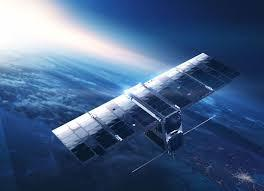antenna: (128, 151, 167, 177), (180, 113, 219, 137)
body: (129, 82, 186, 155)
solar: (51, 93, 162, 167), (143, 51, 245, 110), (128, 82, 177, 121), (143, 128, 167, 150)
